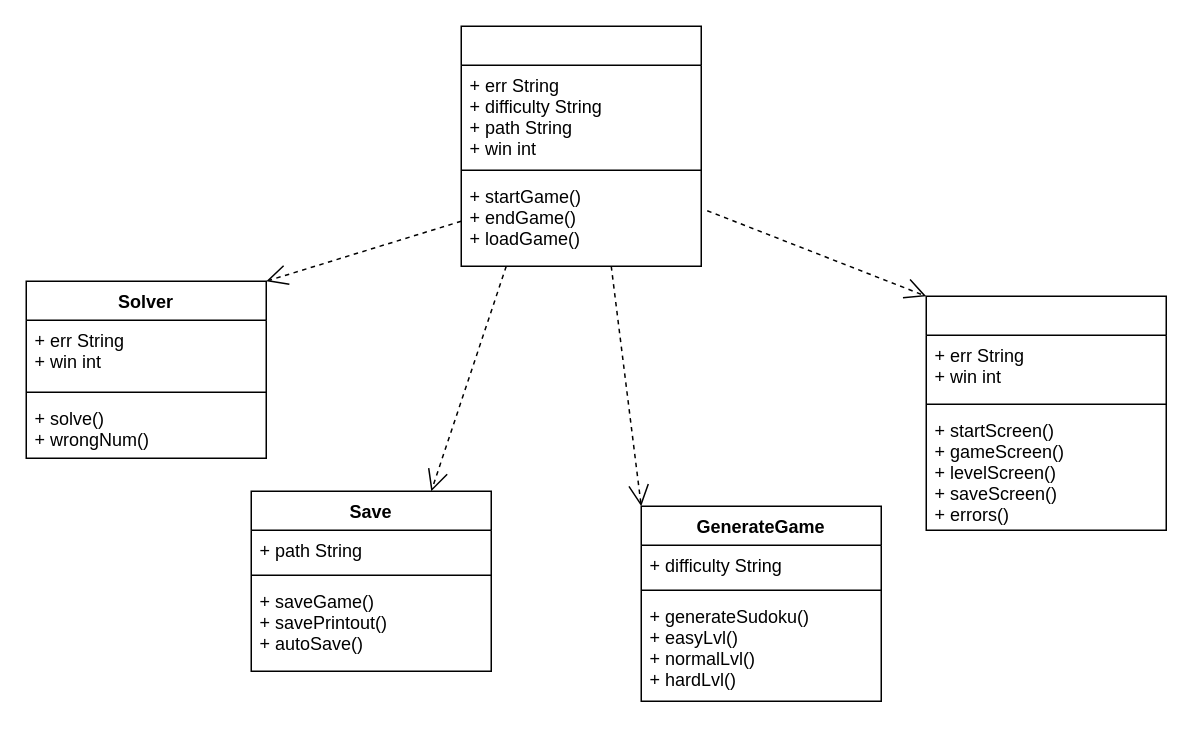
The diagram is 1193 pixels wide and 732 high, and some of its shapes have lost their labels. The shapes that lost their labels are listed below. From the top down, each one's box as (x1, y1, x2, y2) in pixels, then its label:
(460, 25, 701, 266): Sudoku
(925, 295, 1166, 530): Interface
